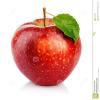Apple leaf: (51, 12, 83, 43)
